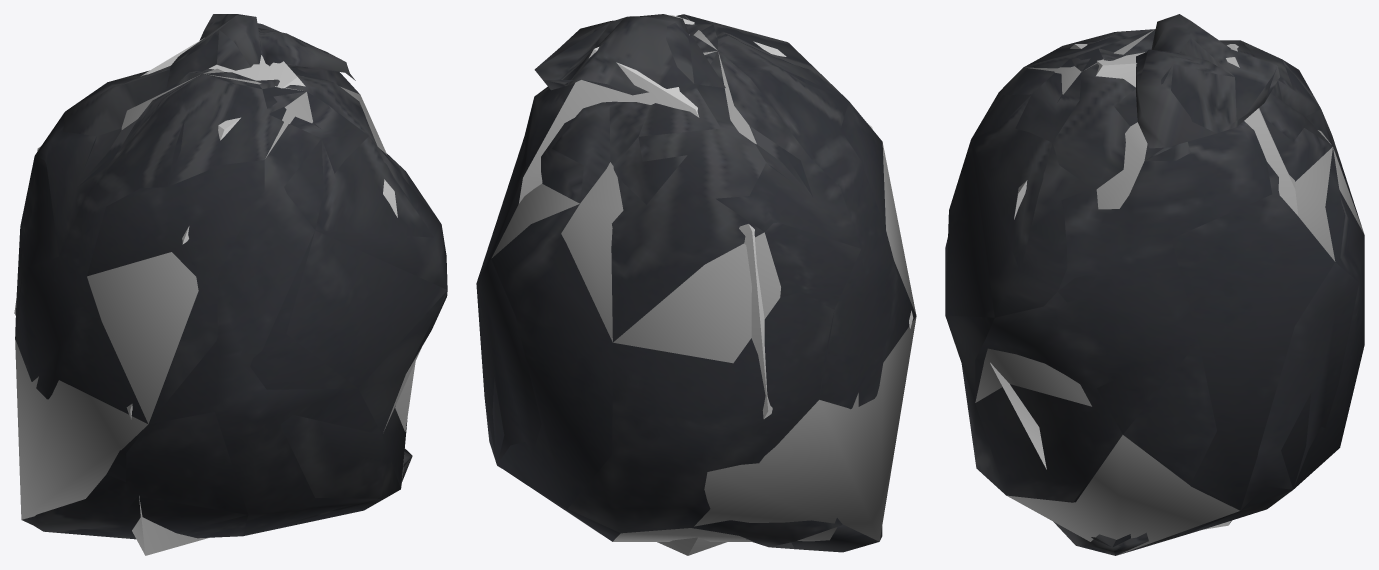
Rendered from ut_trash_bag.DAE.
3 renders of one model, left to right at view 1: azimuth 30°, elevation 25°; view 2: azimuth 150°, elevation 25°; view 3: azimuth 270°, elevation 25°, orthographic. The views are drawn at different scales.
Parts seen in each view (by area): view 1: ut_trash_bag60, ut_trash_bag30, ut_trash_bag15, Colmesh-1; view 2: ut_trash_bag60, ut_trash_bag30, ut_trash_bag15, Colmesh-1; view 3: ut_trash_bag60, ut_trash_bag30, ut_trash_bag15, Colmesh-1.
Part boxes in pixels (x1,y1,x2,y2): ut_trash_bag60: (15,14,447,539); ut_trash_bag30: (15,23,447,538); ut_trash_bag15: (15,68,421,519); Colmesh-1: (14,38,415,555); ut_trash_bag60: (476,14,916,549); ut_trash_bag30: (477,14,885,552); ut_trash_bag15: (491,16,916,541); Colmesh-1: (519,15,913,555); ut_trash_bag60: (945,14,1358,555); ut_trash_bag30: (945,29,1364,546); ut_trash_bag15: (975,29,1364,555); Colmesh-1: (990,44,1298,529).
Bounding box in the file's own units: 52.53 × 51.05 × 63.29.
